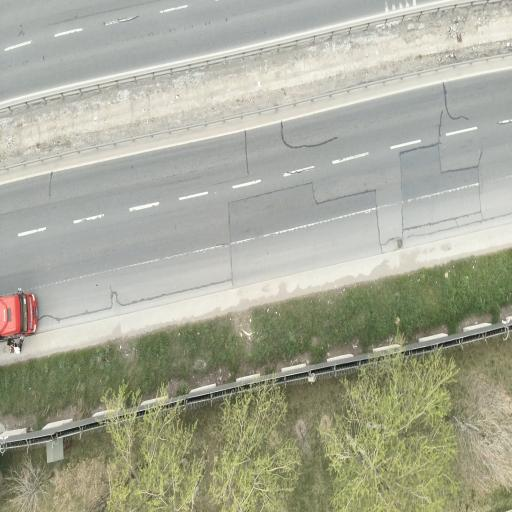person: (13, 342, 22, 356)
truck: (0, 290, 37, 340)
